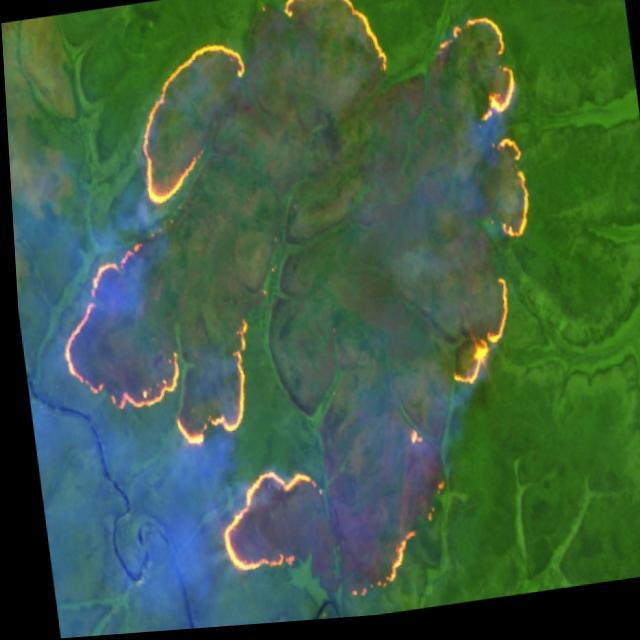fire: (8, 0, 580, 640)
